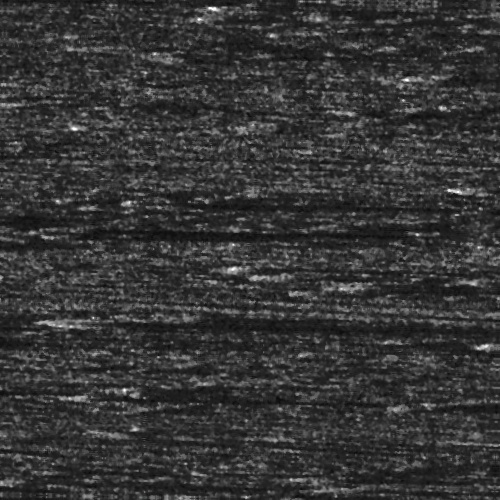object: (410, 66, 483, 77), (46, 224, 109, 235), (436, 180, 499, 187), (30, 321, 93, 328), (459, 334, 500, 343), (95, 200, 168, 205), (242, 264, 283, 269), (469, 496, 500, 500)
shadow: (77, 224, 379, 235), (62, 321, 500, 328), (132, 200, 440, 205), (0, 213, 61, 226), (446, 66, 500, 77), (0, 0, 111, 4), (263, 264, 342, 269), (0, 486, 25, 495), (468, 180, 500, 187)
